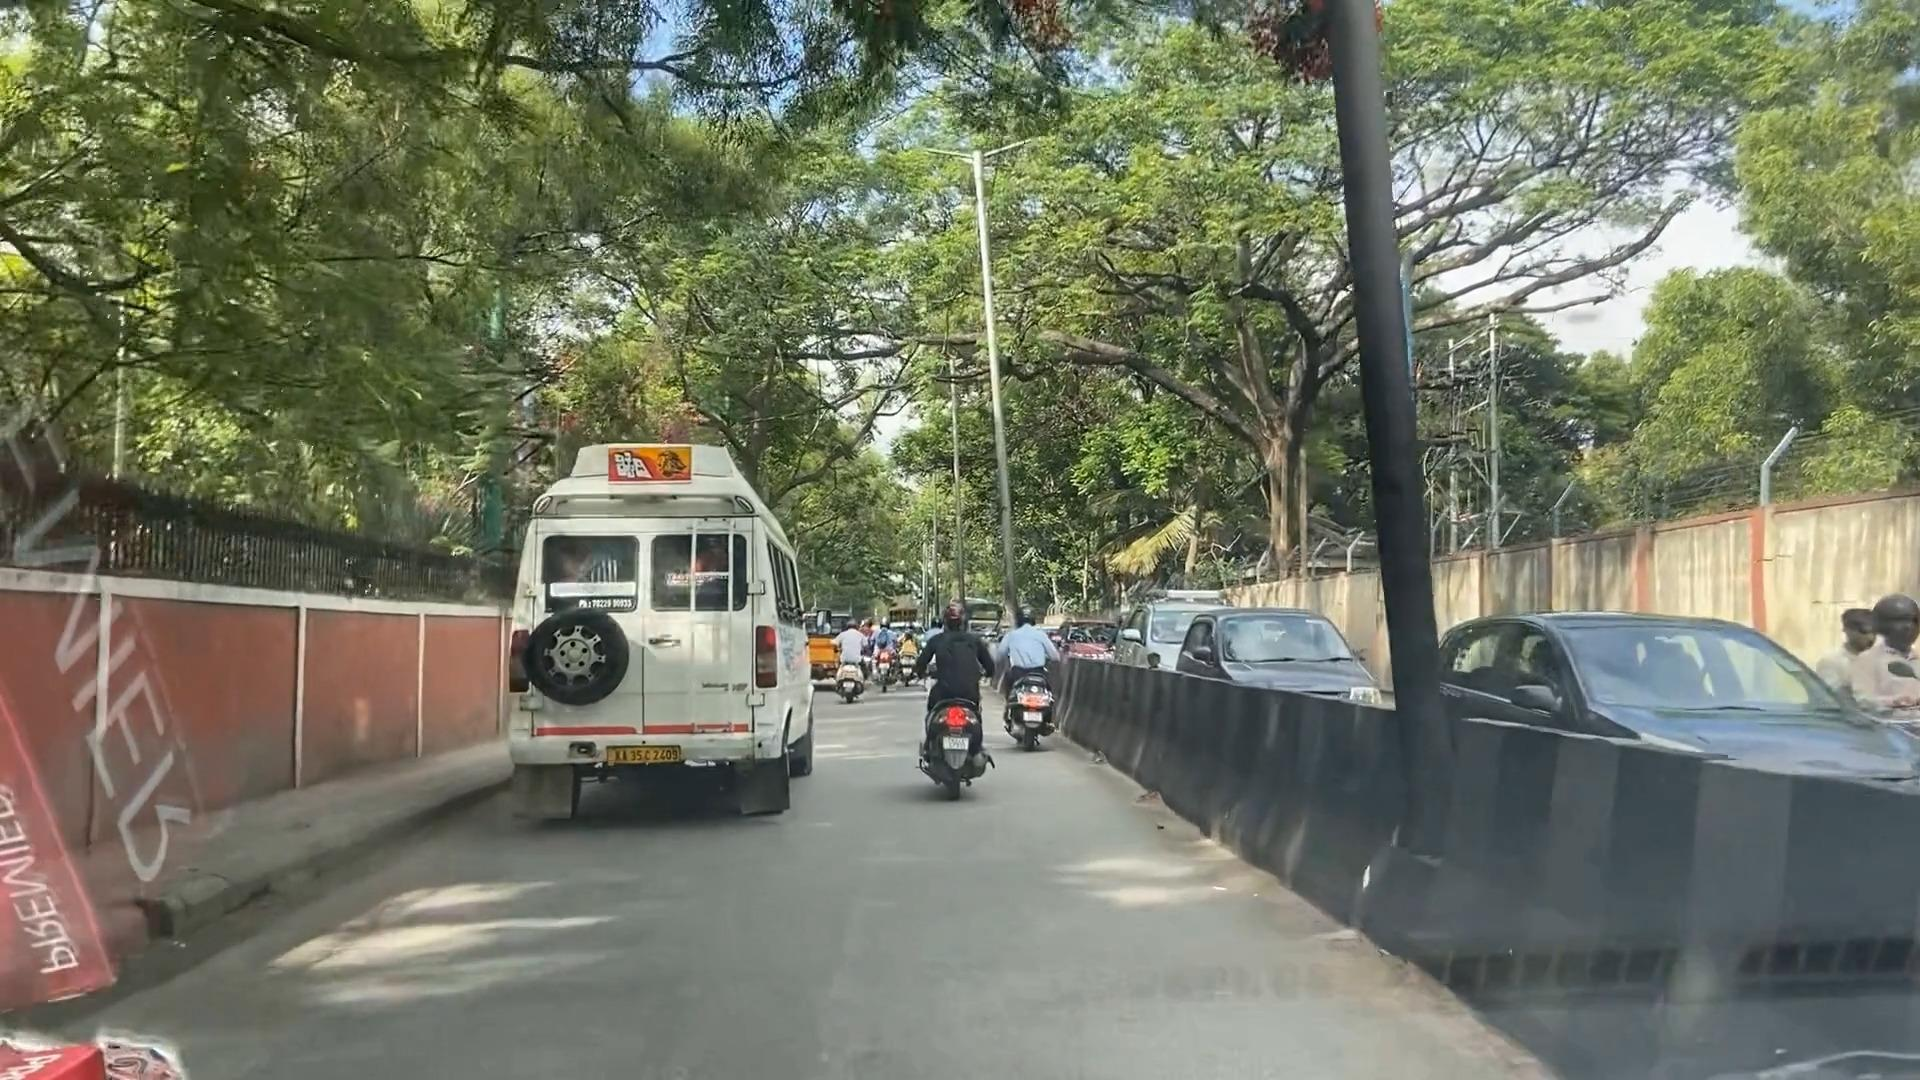HMV: (500, 400, 787, 820)
LMV: (923, 604, 989, 810), (1006, 589, 1062, 748)
